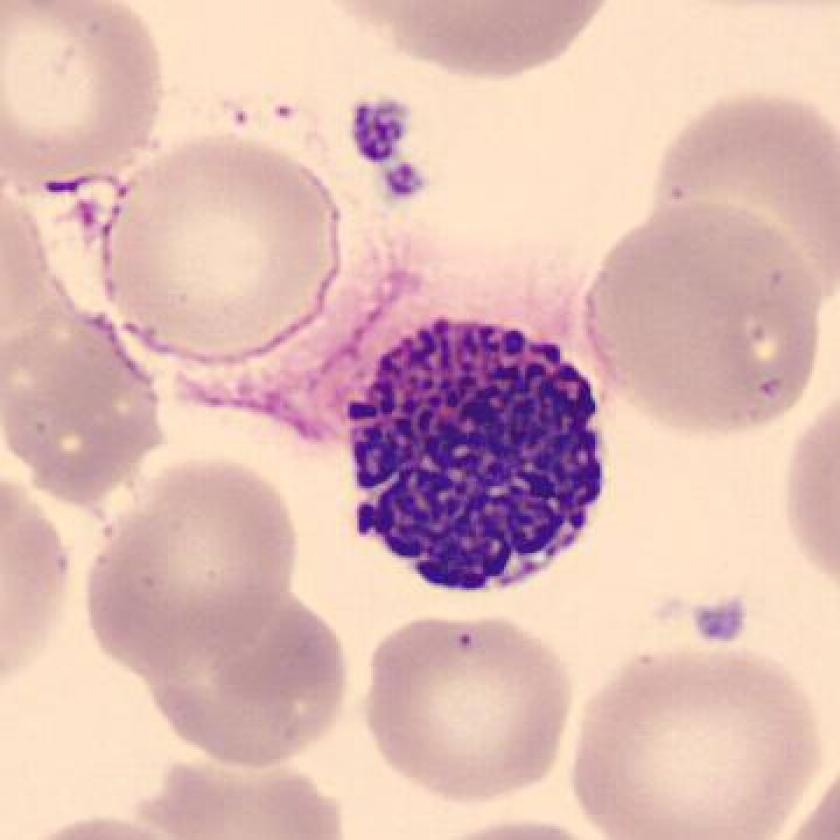basophil: (330, 311, 622, 612)
